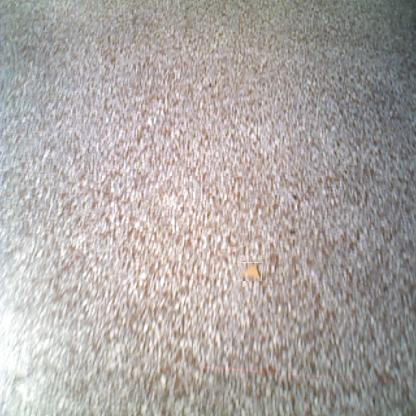dirty: (240, 262, 262, 281)
